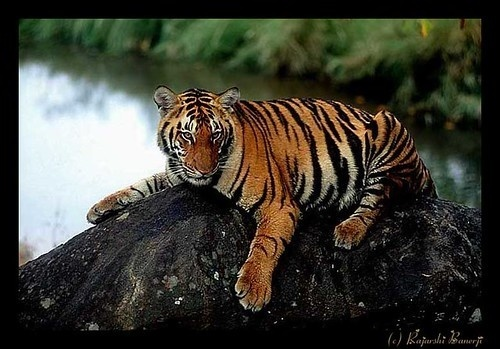tigre: (85, 82, 443, 315)
